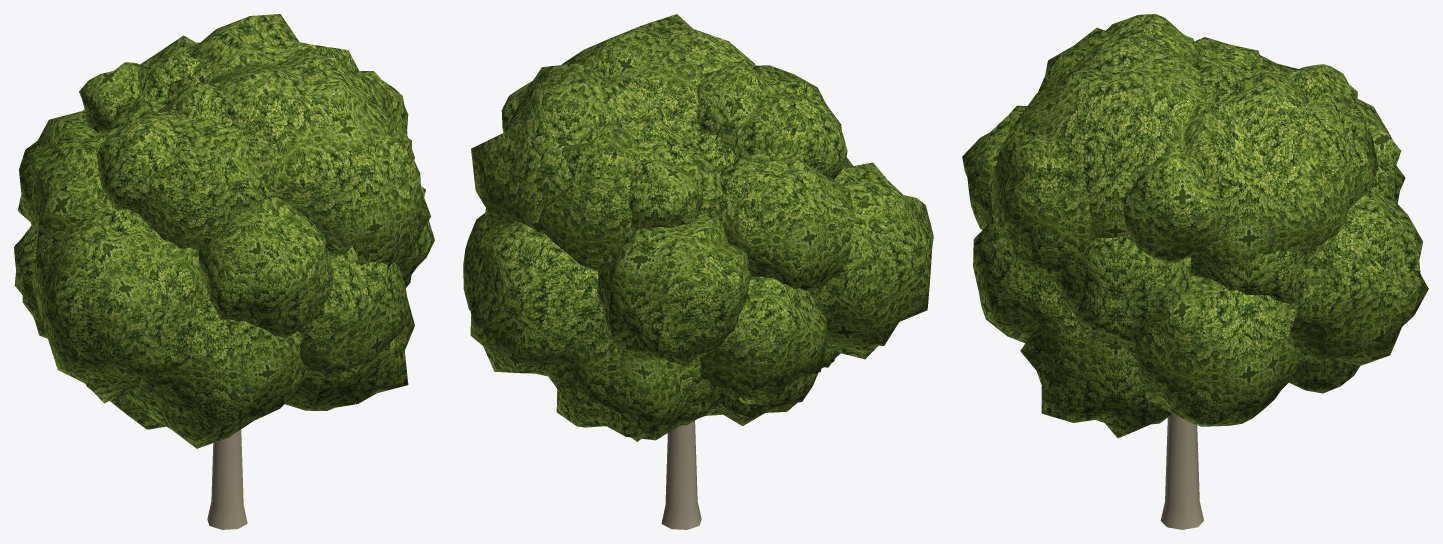
The model's file is stadt_baum_platane.glb.
The picture shows the model from 3 angles, left to right: view 1: azimuth 30°, elevation 25°; view 2: azimuth 150°, elevation 25°; view 3: azimuth 270°, elevation 25°; orthographic projection. The views are drawn at different scales.
Visible parts, largest first — view 1: Prop; view 2: Prop; view 3: Prop.
Part boxes in pixels (box(x1,y1,x2,y2)): Prop: box(14, 14, 434, 529); Prop: box(463, 14, 933, 529); Prop: box(962, 14, 1428, 529).
Bounding box in the file's own units: 0.9025 × 1 × 0.867.
Materials: 2 (1 with a texture image).
